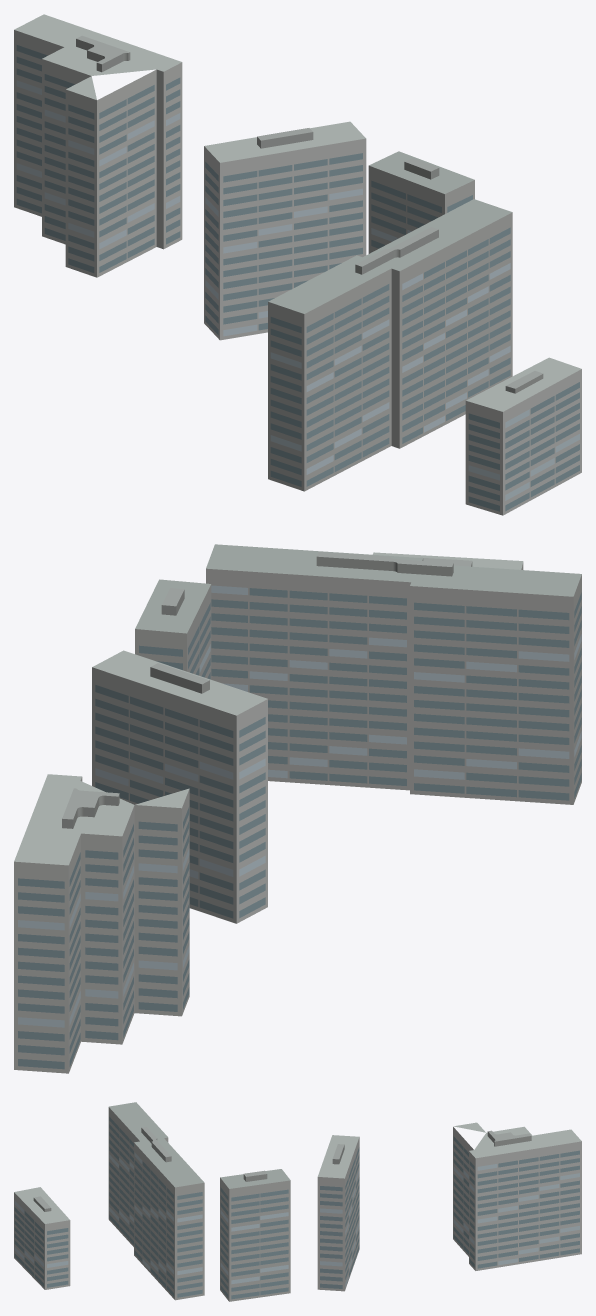
The model's file is apt-a13381701.glb.
The picture shows the model from 3 angles, top to bottom: view 1: azimuth 30°, elevation 25°; view 2: azimuth 150°, elevation 25°; view 3: azimuth 270°, elevation 25°; orthographic projection. The views are drawn at different scales.
Parts seen in each view (by area): view 1: apt-a13381701; view 2: apt-a13381701; view 3: apt-a13381701.
Part boxes in pixels (x1,y1,x2,y2): apt-a13381701: (14, 14, 581, 515); apt-a13381701: (14, 544, 581, 1073); apt-a13381701: (14, 1102, 581, 1301).
Size of the model in its own units: 75.54 by 47.81 by 209.
